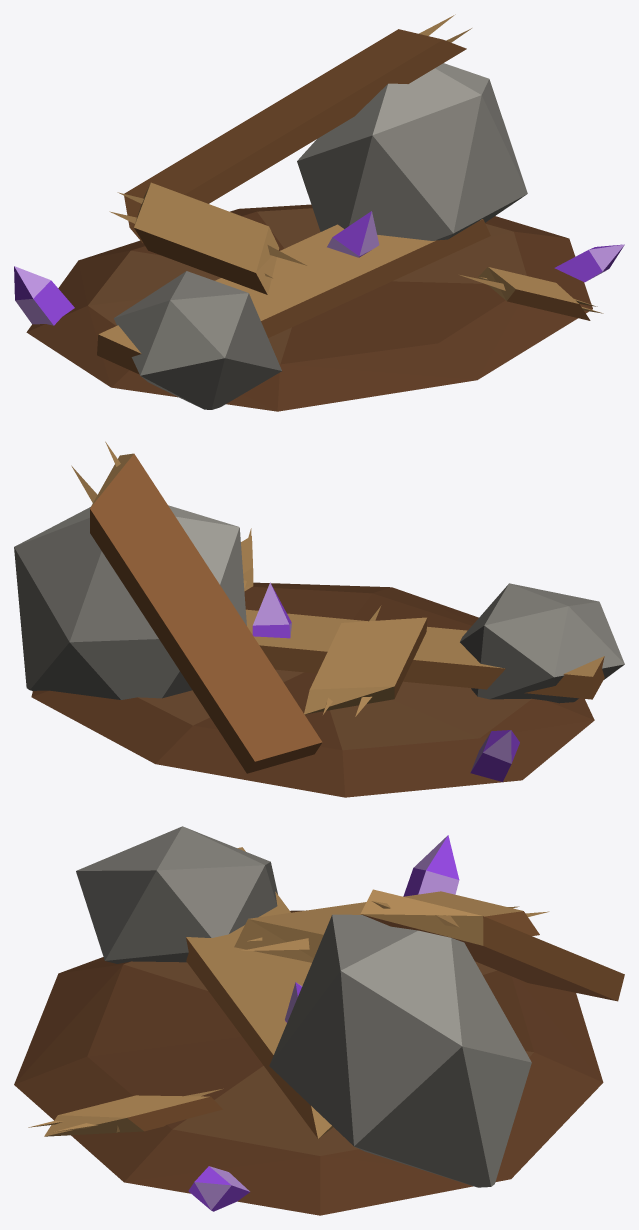
Rendered from rubble_pile.glb.
3 renders of one model, top to bottom at view 1: azimuth 30°, elevation 25°; view 2: azimuth 150°, elevation 25°; view 3: azimuth 270°, elevation 25°, orthographic. The views are drawn at different scales.
Parts seen in each view (by area): view 1: rubble_pile; view 2: rubble_pile; view 3: rubble_pile.
Part boxes in pixels (bbox=[...]): rubble_pile: bbox=[14, 14, 624, 411]; rubble_pile: bbox=[14, 441, 624, 797]; rubble_pile: bbox=[14, 826, 624, 1215].
Bounding box in the file's own units: 0.5941 × 0.2389 × 0.4926.
